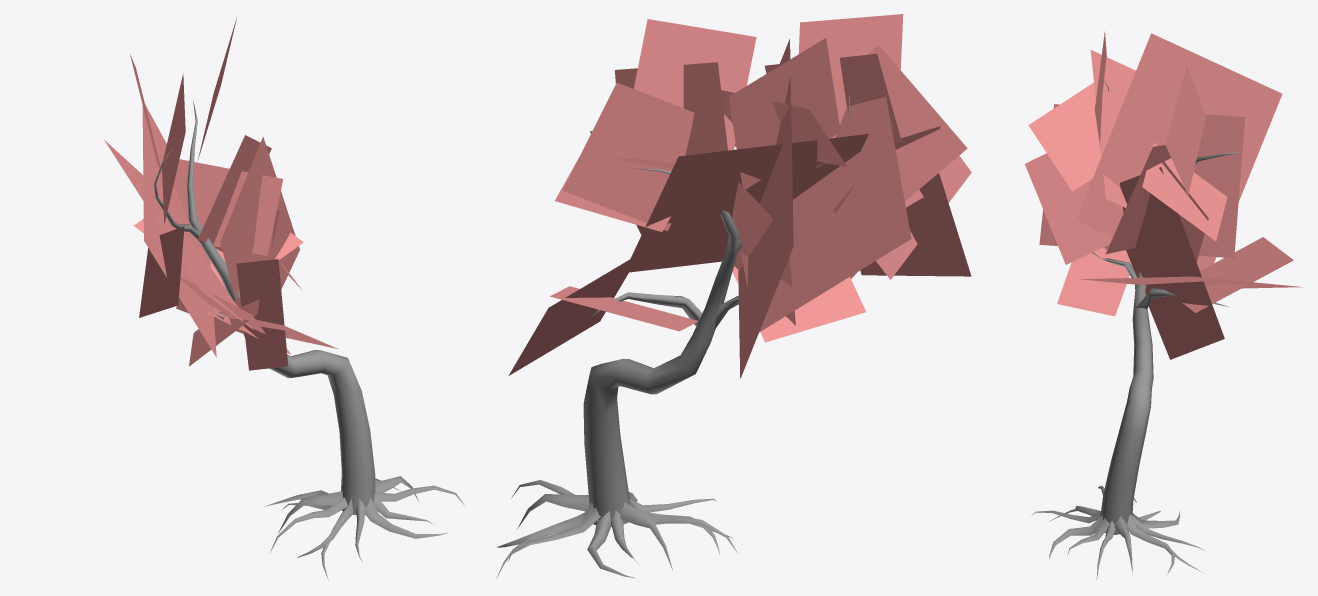
Rendered from reddesertpack_JuniperTree05_SM.gltf.
The picture shows the model from 3 angles, left to right: view 1: azimuth 30°, elevation 25°; view 2: azimuth 150°, elevation 25°; view 3: azimuth 270°, elevation 25°; orthographic projection. The views are drawn at different scales.
Parts seen in each view (by area): view 1: reddesertpack_JuniperTree05_SM; view 2: reddesertpack_JuniperTree05_SM; view 3: reddesertpack_JuniperTree05_SM.
Boxes of the visible parts, box(x1,y1,x2,y2) form: reddesertpack_JuniperTree05_SM: box(104, 16, 464, 579); reddesertpack_JuniperTree05_SM: box(496, 14, 971, 578); reddesertpack_JuniperTree05_SM: box(1025, 31, 1301, 579).
Bounding box in the file's own units: 4.77 × 5.89 × 3.57.
